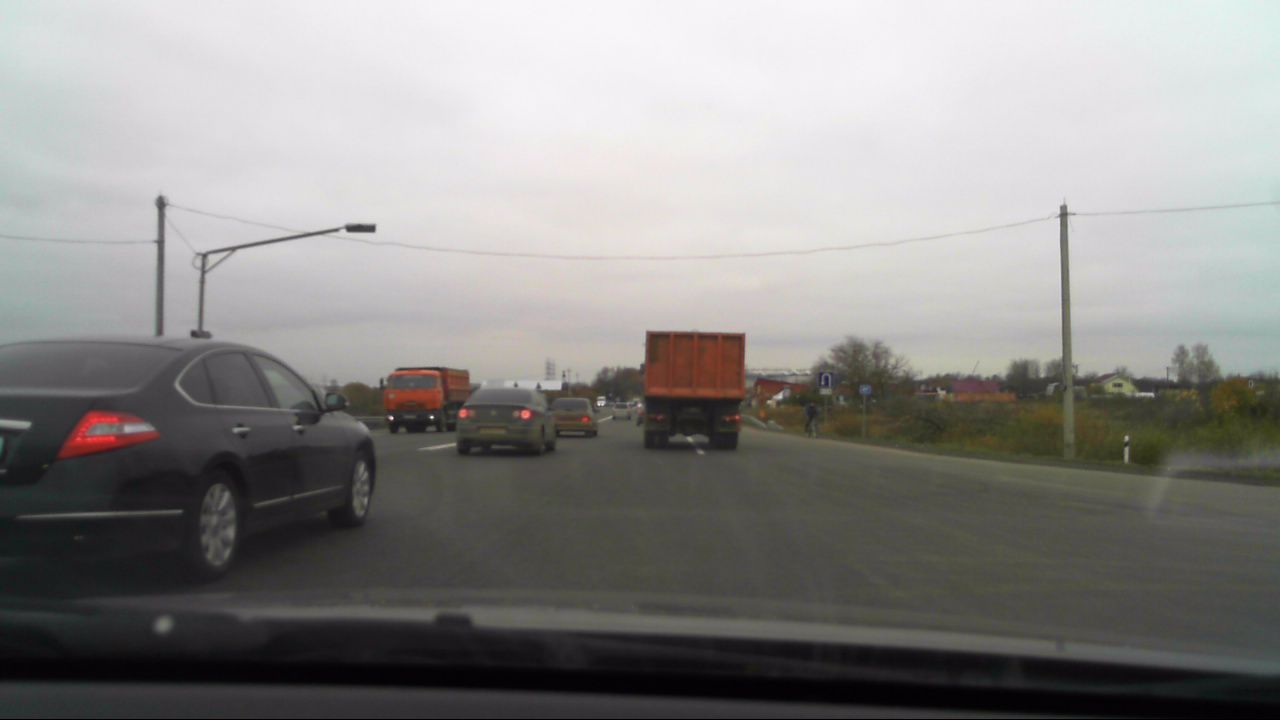U-turn: (819, 371, 833, 387)
